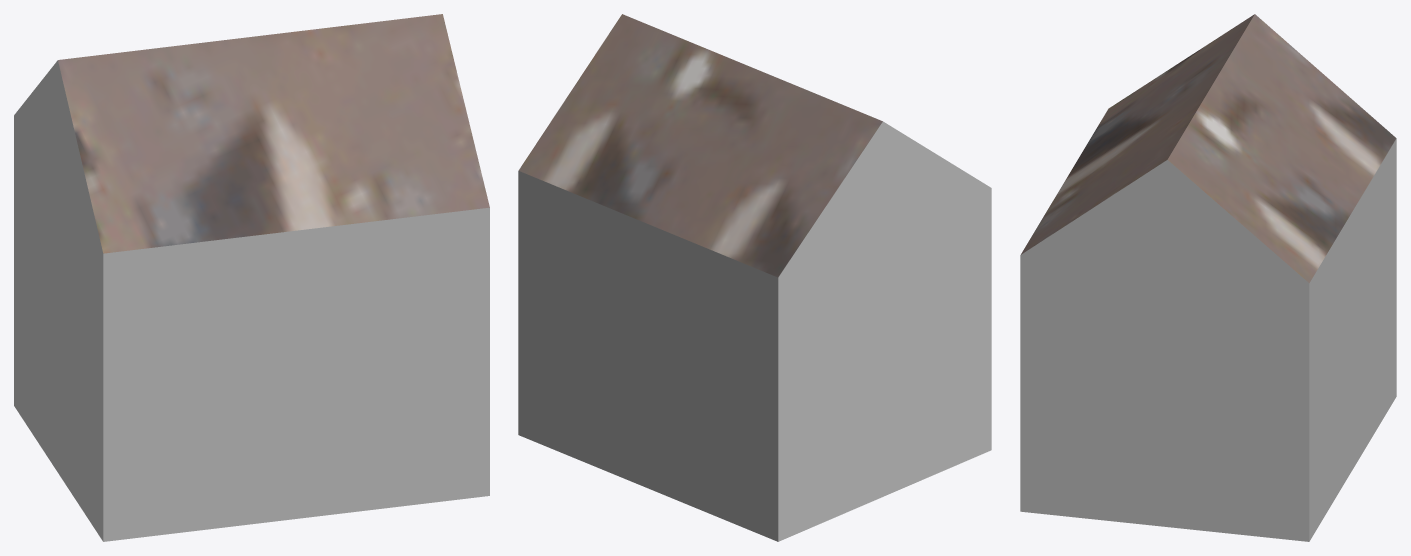
The model's file is DEBW_0010007Txhz.gltf.
The picture shows the model from 3 angles, left to right: view 1: azimuth 30°, elevation 25°; view 2: azimuth 150°, elevation 25°; view 3: azimuth 270°, elevation 25°; orthographic projection. The views are drawn at different scales.
Visible parts, largest first — view 1: Z_UP; view 2: Z_UP; view 3: Z_UP.
Part boxes in pixels (x1,y1,x2,y2): Z_UP: (14,14,489,541); Z_UP: (518,14,991,541); Z_UP: (1020,14,1396,541).
Size of the model in its own units: 14.3 by 13.86 by 12.86.
2 materials, 1 textured.
